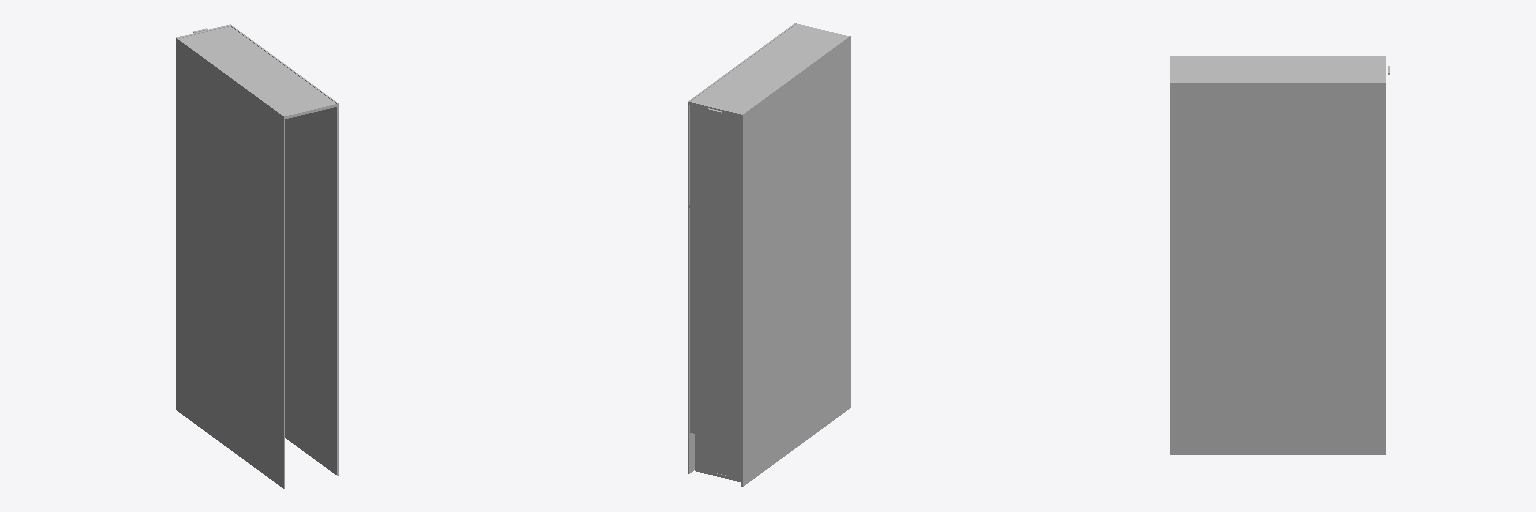
Rendered from room.obj.
The picture shows the model from 3 angles: view 1: azimuth 30°, elevation 25°; view 2: azimuth 150°, elevation 25°; view 3: azimuth 270°, elevation 25°; orthographic projection.
Parts seen in each view (by area): view 1: obj_7; view 2: obj_7, obj_6; view 3: obj_7.
Part boxes in pixels (left/top/right/bottom): obj_7: left=176, top=24, right=338, bottom=488; obj_7: left=688, top=23, right=850, bottom=486; obj_6: left=690, top=101, right=741, bottom=481; obj_7: left=1170, top=56, right=1385, bottom=454.
Size of the model in its own units: 120 by 781 by 419.